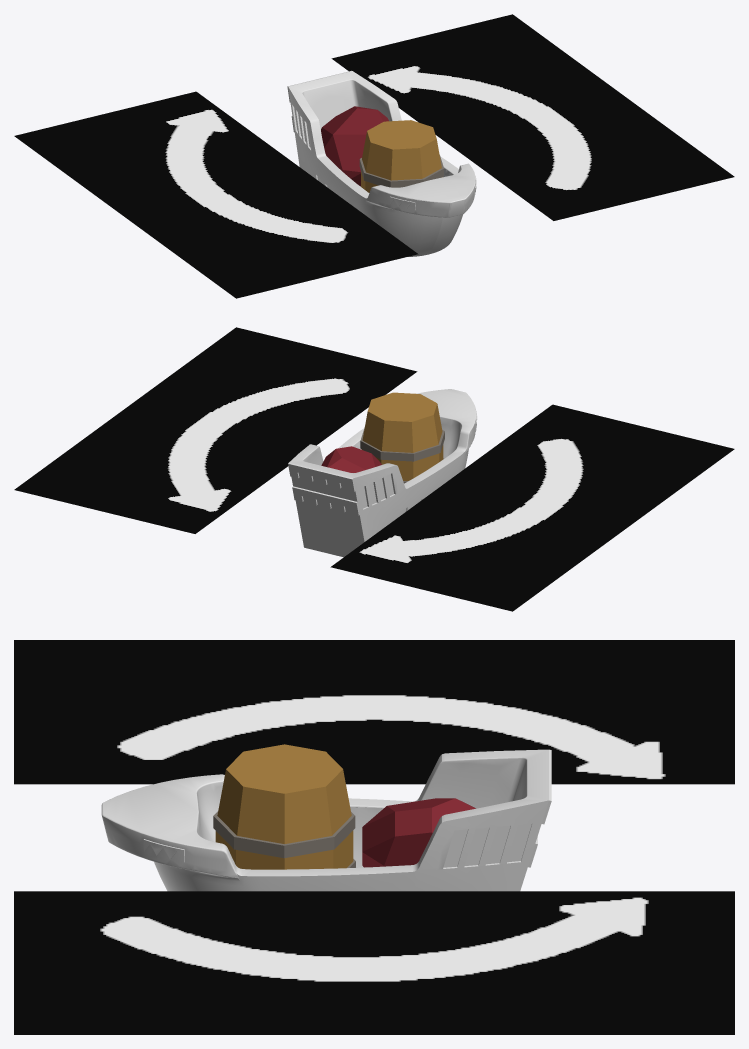
File: Boat.glb
3 renders of one model, top to bottom at view 1: azimuth 30°, elevation 25°; view 2: azimuth 150°, elevation 25°; view 3: azimuth 270°, elevation 25°, orthographic. The views are drawn at different scales.
Visible parts, largest first — view 1: RotateCCW, RotateCW, Boat, Barrel, Ruby; view 2: RotateCCW, RotateCW, Boat, Barrel, Ruby; view 3: RotateCW, RotateCCW, Boat, Barrel, Ruby.
Boxes of the visible parts, left/top/right/bottom form: RotateCCW: left=14, top=91, right=418, bottom=298; RotateCW: left=331, top=14, right=734, bottom=220; Boat: left=287, top=70, right=476, bottom=256; Barrel: left=359, top=120, right=443, bottom=192; Ruby: left=321, top=106, right=388, bottom=186; RotateCCW: left=330, top=404, right=734, bottom=611; RotateCW: left=14, top=327, right=417, bottom=533; Boat: left=288, top=389, right=477, bottom=557; Barrel: left=360, top=392, right=444, bottom=483; Ruby: left=321, top=446, right=381, bottom=472; RotateCW: left=14, top=891, right=734, bottom=1034; RotateCCW: left=14, top=640, right=734, bottom=784; Boat: left=101, top=749, right=551, bottom=891; Barrel: left=213, top=744, right=355, bottom=869; Ruby: left=362, top=798, right=475, bottom=867.
Bounding box in the file's own units: 2.02 × 0.3856 × 1.56.
5 materials, 1 textured.
